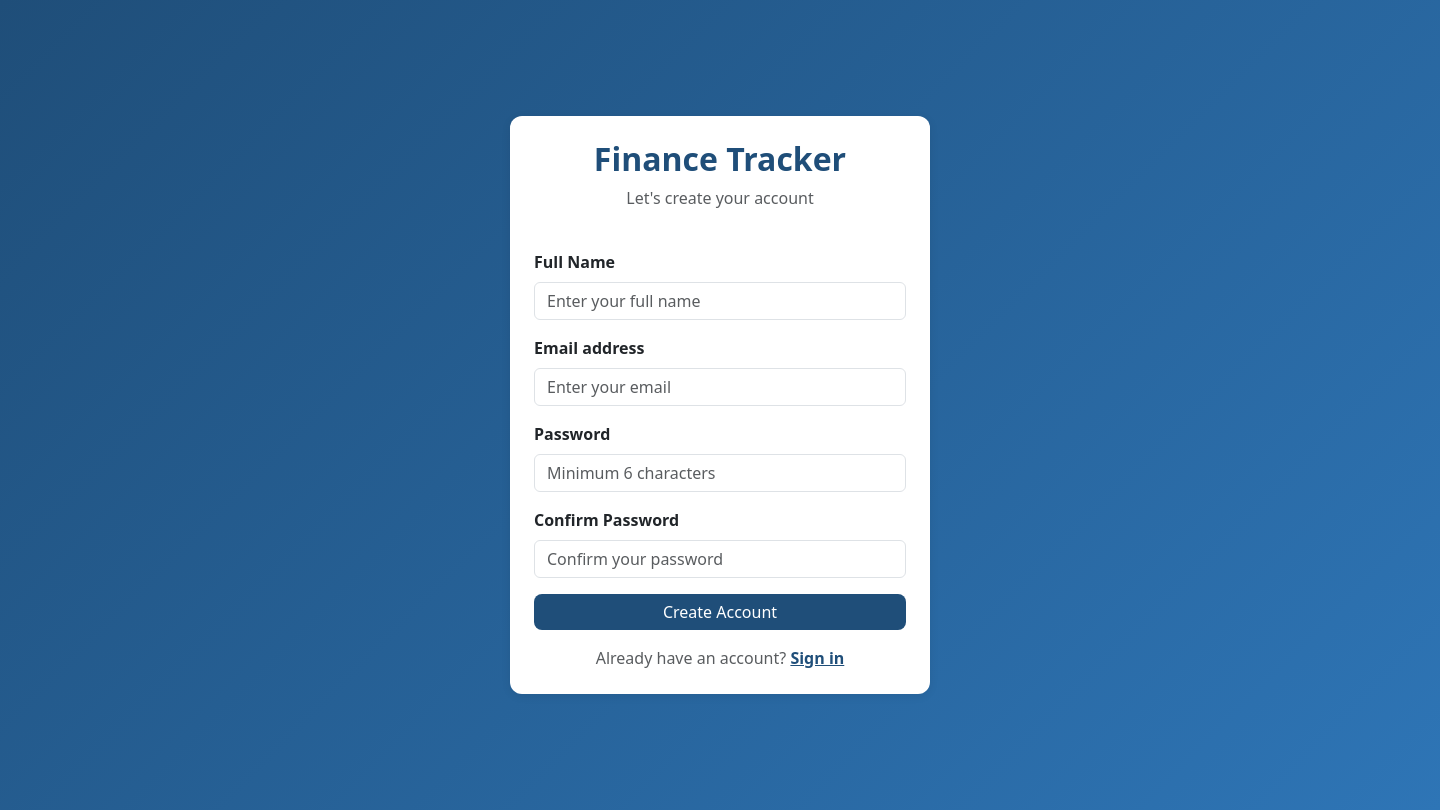
Test: Register Component › UT08 - Shows error when password is too short
Type "Gourav Khurana" into the field with placeholder "Enter your full name" at (720, 301), box [534,282,906,320]
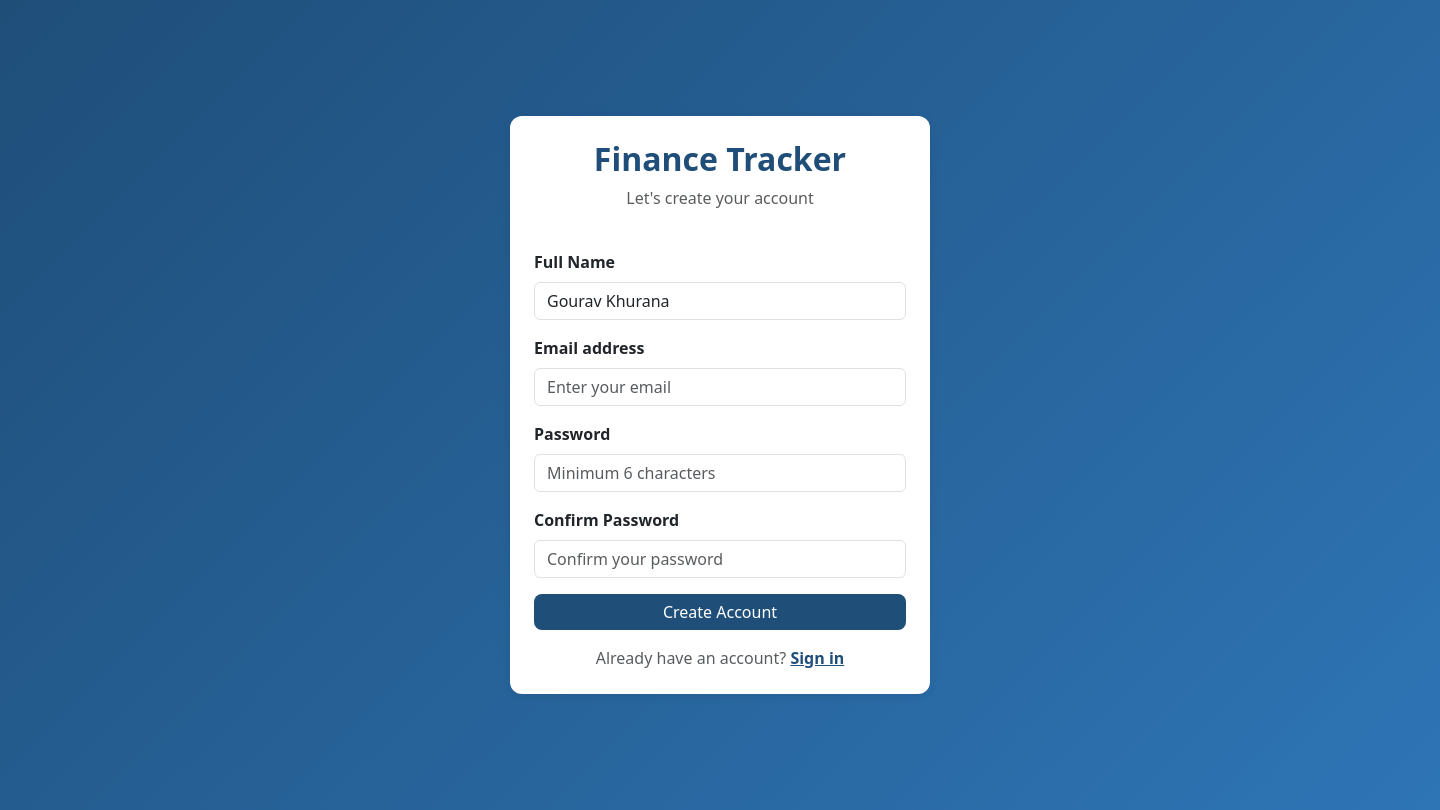
Type "gourav@gmail.com" into the field with placeholder "Enter your email" at (720, 387), box [534,368,906,406]
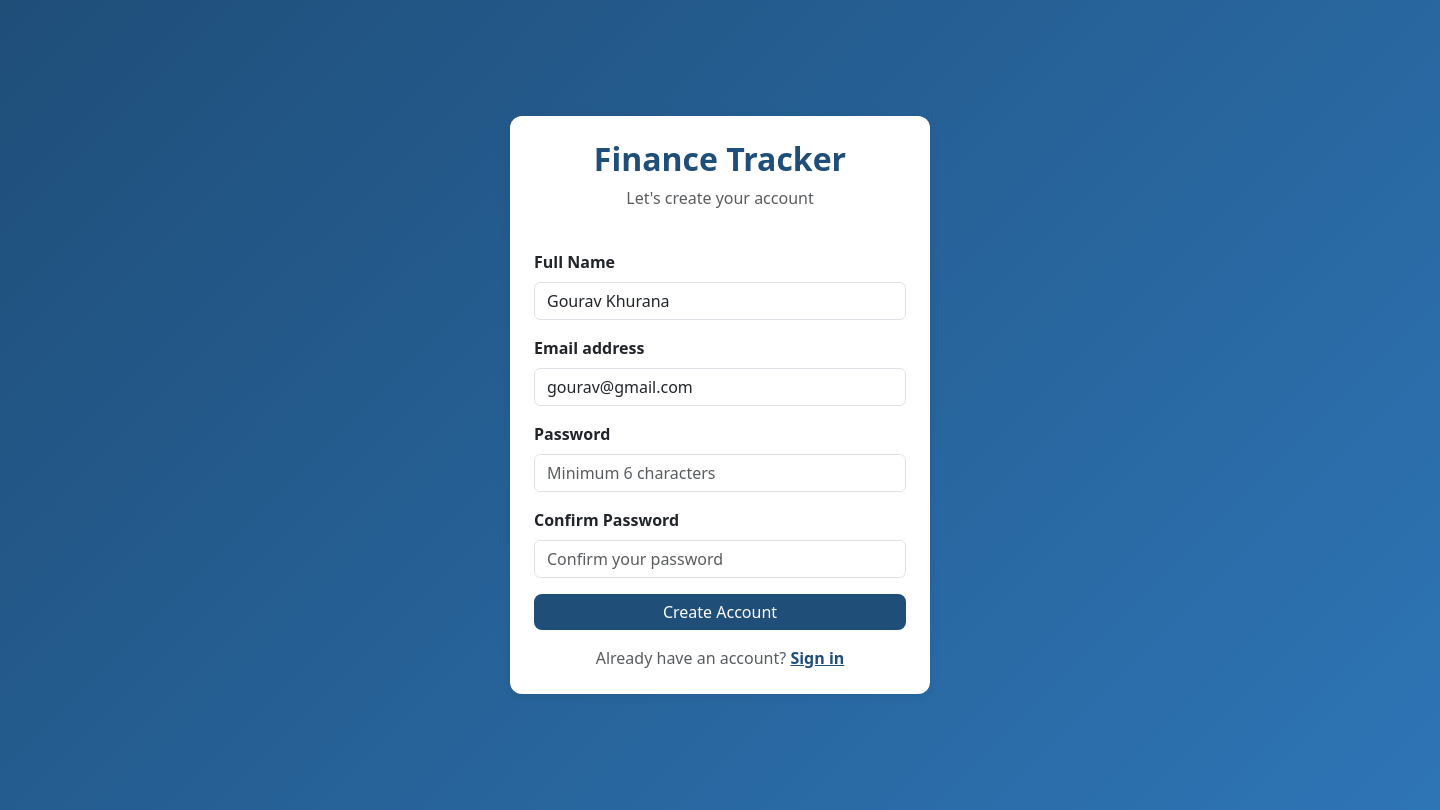
Type "123" into the password field with placeholder "Minimum 6 characters" at (720, 473), box [534,454,906,492]
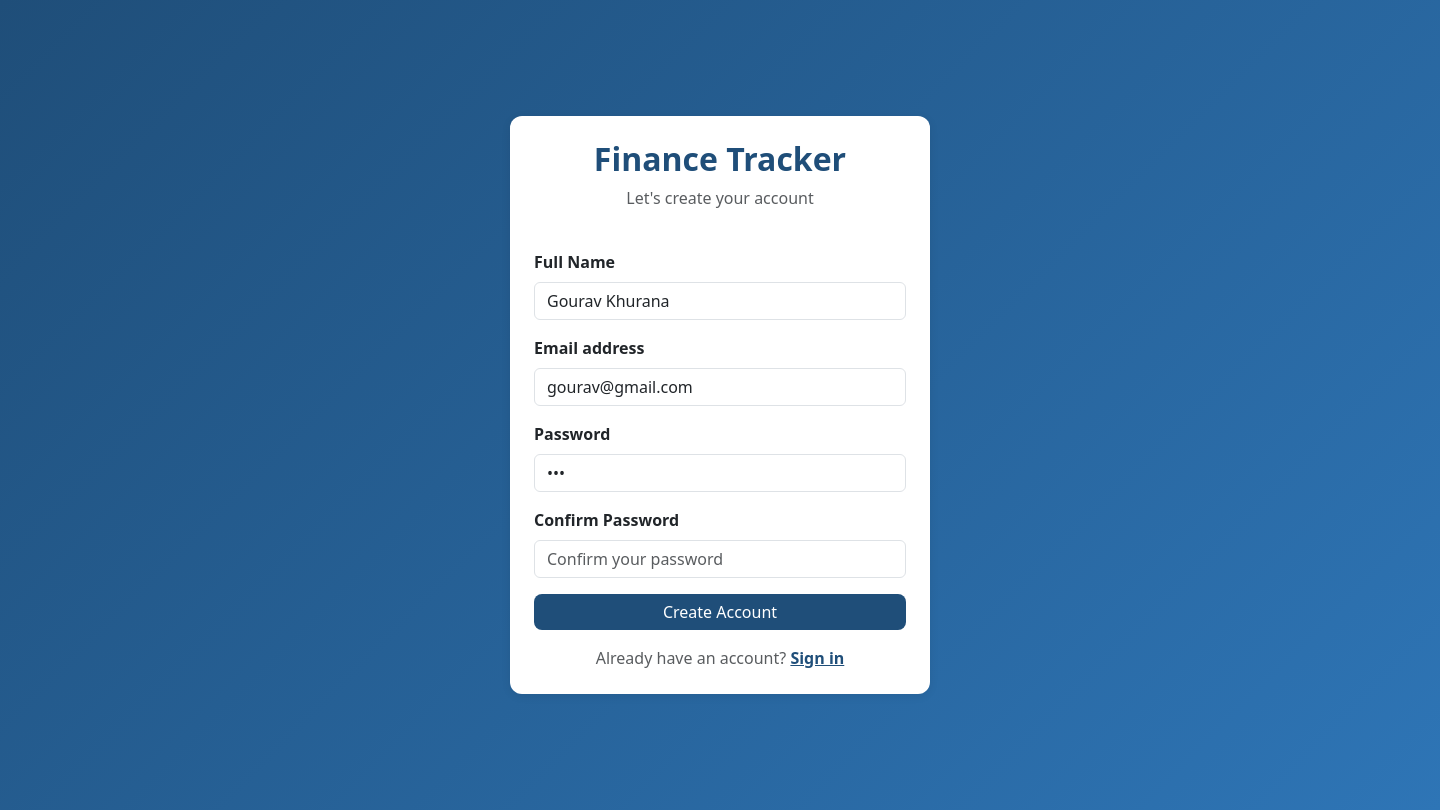
Type "123" into the password field with placeholder "Confirm your password" at (720, 559), box [534,540,906,578]
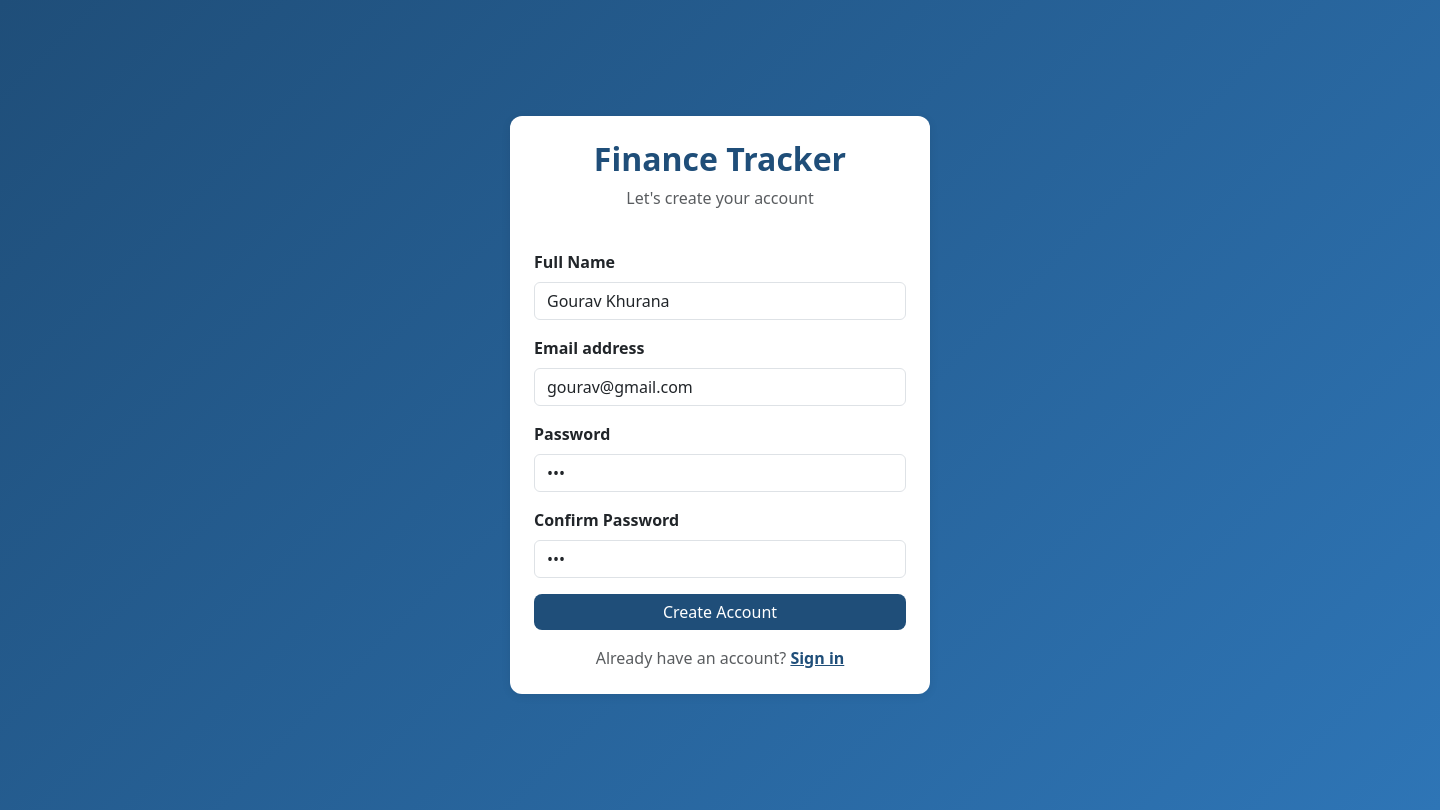
Click the button "Create Account" at (720, 612), box [534,594,906,630]
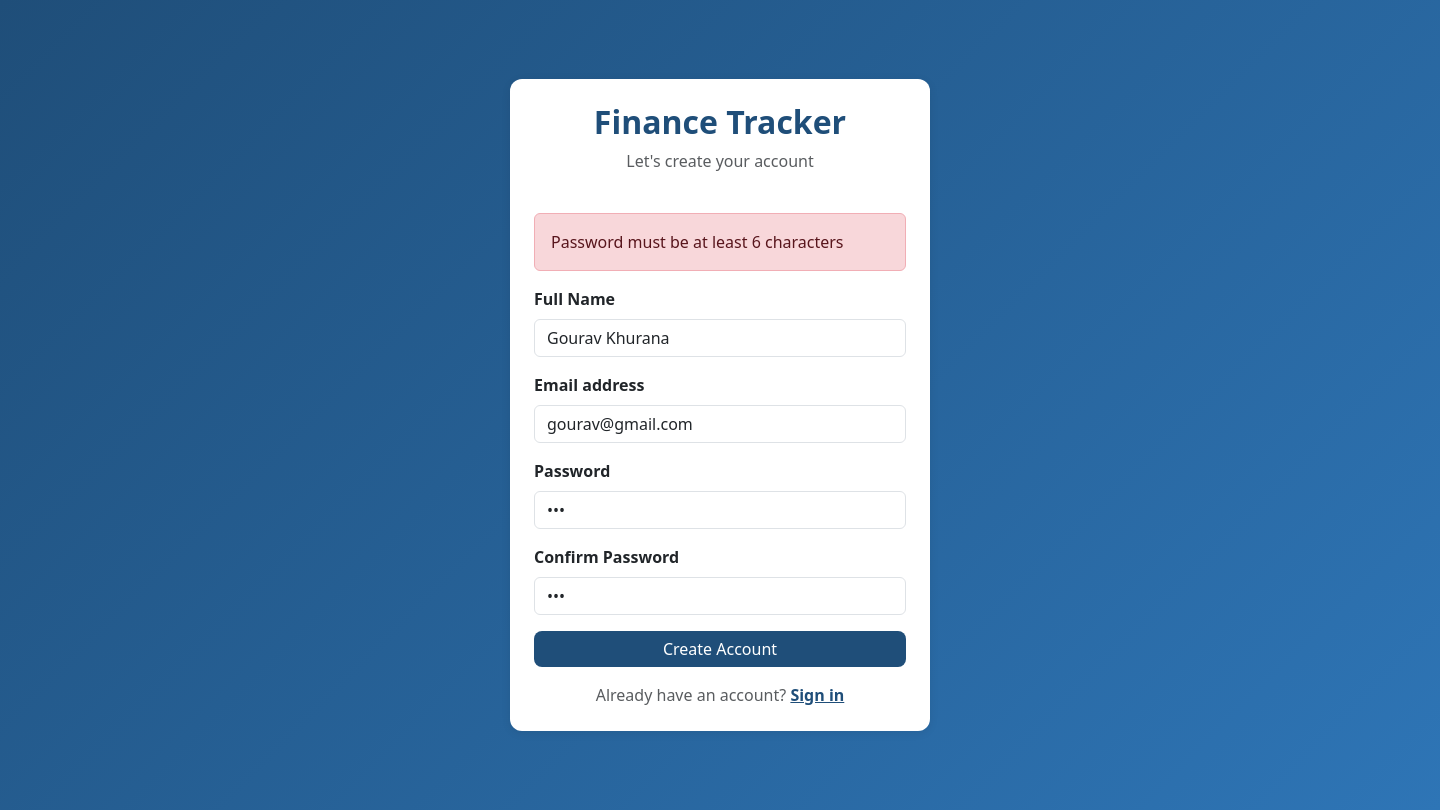
Expected: the text "Password must be at least 6 characters" is shown, [534,213,906,271]
